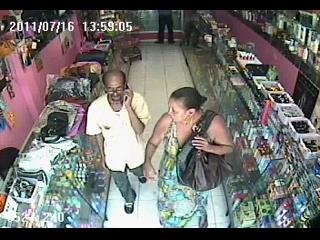Normal: (143, 86, 235, 228), (85, 70, 152, 214), (154, 10, 176, 44), (75, 50, 109, 66)
